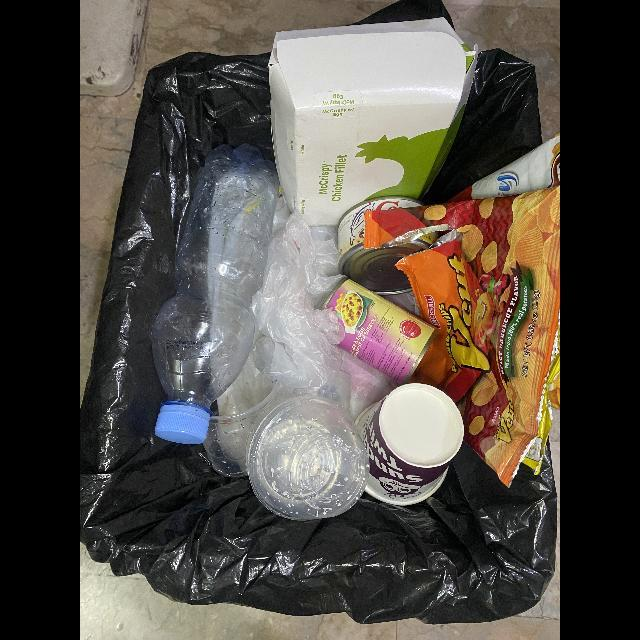aluminum: (319, 276, 440, 383)
cardboard: (267, 19, 469, 231), (357, 383, 466, 506)
food_wrapper: (365, 186, 559, 490), (458, 132, 560, 198)
plastic_bag: (220, 213, 393, 418)
plastic_container: (247, 396, 370, 521), (206, 383, 282, 474)
